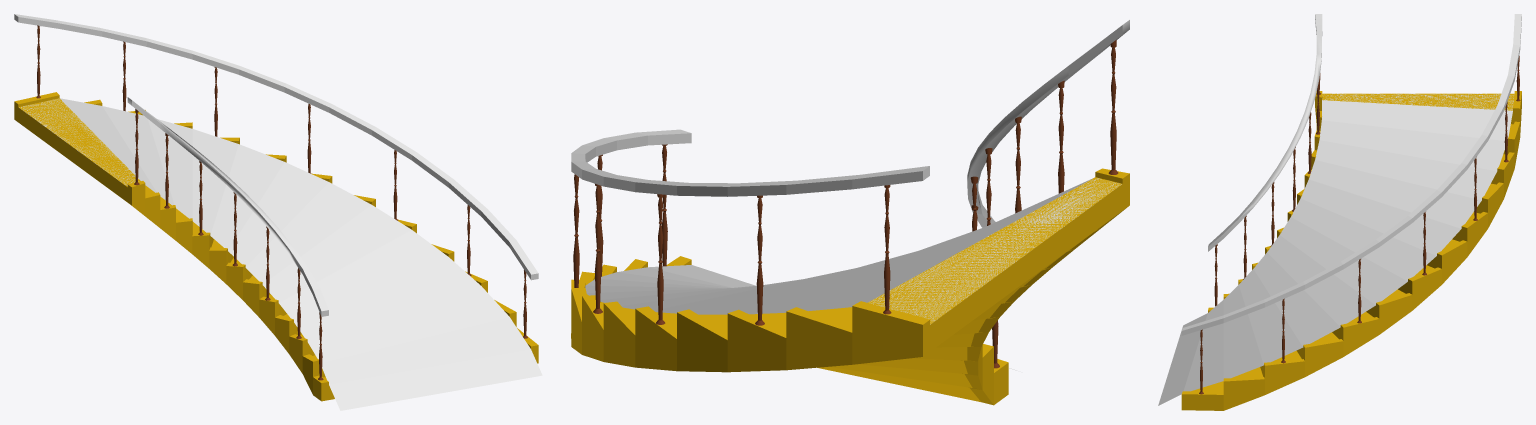
The model's file is stairs.fbx.
The picture shows the model from 3 angles, left to right: view 1: azimuth 30°, elevation 25°; view 2: azimuth 150°, elevation 25°; view 3: azimuth 270°, elevation 25°; orthographic projection. The views are drawn at different scales.
Visible parts, largest first — view 1: Escalier.001, Escalier, Rampe.001, Rampe; view 2: Escalier, Escalier.001, Rampe.001, Rampe, Cylinder.011, Cylinder.018, Cylinder.017, Cylinder.016, Cylinder.019, Cylinder.010, Cylinder.015, Cylinder.013; view 3: Escalier.001, Escalier, Rampe.001, Rampe.
Part boxes in pixels (x1,y1,x2,y2): Escalier.001: [19, 98, 542, 410]; Escalier: [14, 92, 538, 401]; Rampe.001: [14, 14, 538, 280]; Rampe: [127, 97, 328, 316]; Escalier: [571, 168, 1129, 405]; Escalier.001: [585, 177, 1121, 370]; Rampe.001: [571, 129, 929, 196]; Rampe: [967, 20, 1129, 227]; Cylinder.011: [1108, 40, 1118, 174]; Cylinder.018: [755, 195, 764, 325]; Cylinder.017: [656, 194, 665, 324]; Cylinder.016: [593, 184, 602, 313]; Cylinder.019: [883, 185, 891, 314]; Cylinder.010: [1058, 80, 1064, 193]; Cylinder.015: [573, 174, 579, 287]; Cylinder.013: [662, 144, 667, 266]; Escalier.001: [1158, 93, 1513, 405]; Escalier: [1181, 91, 1521, 410]; Rampe.001: [1181, 14, 1521, 335]; Rampe: [1208, 14, 1322, 251].
Size of the model in its own units: 457 by 378 by 491.
